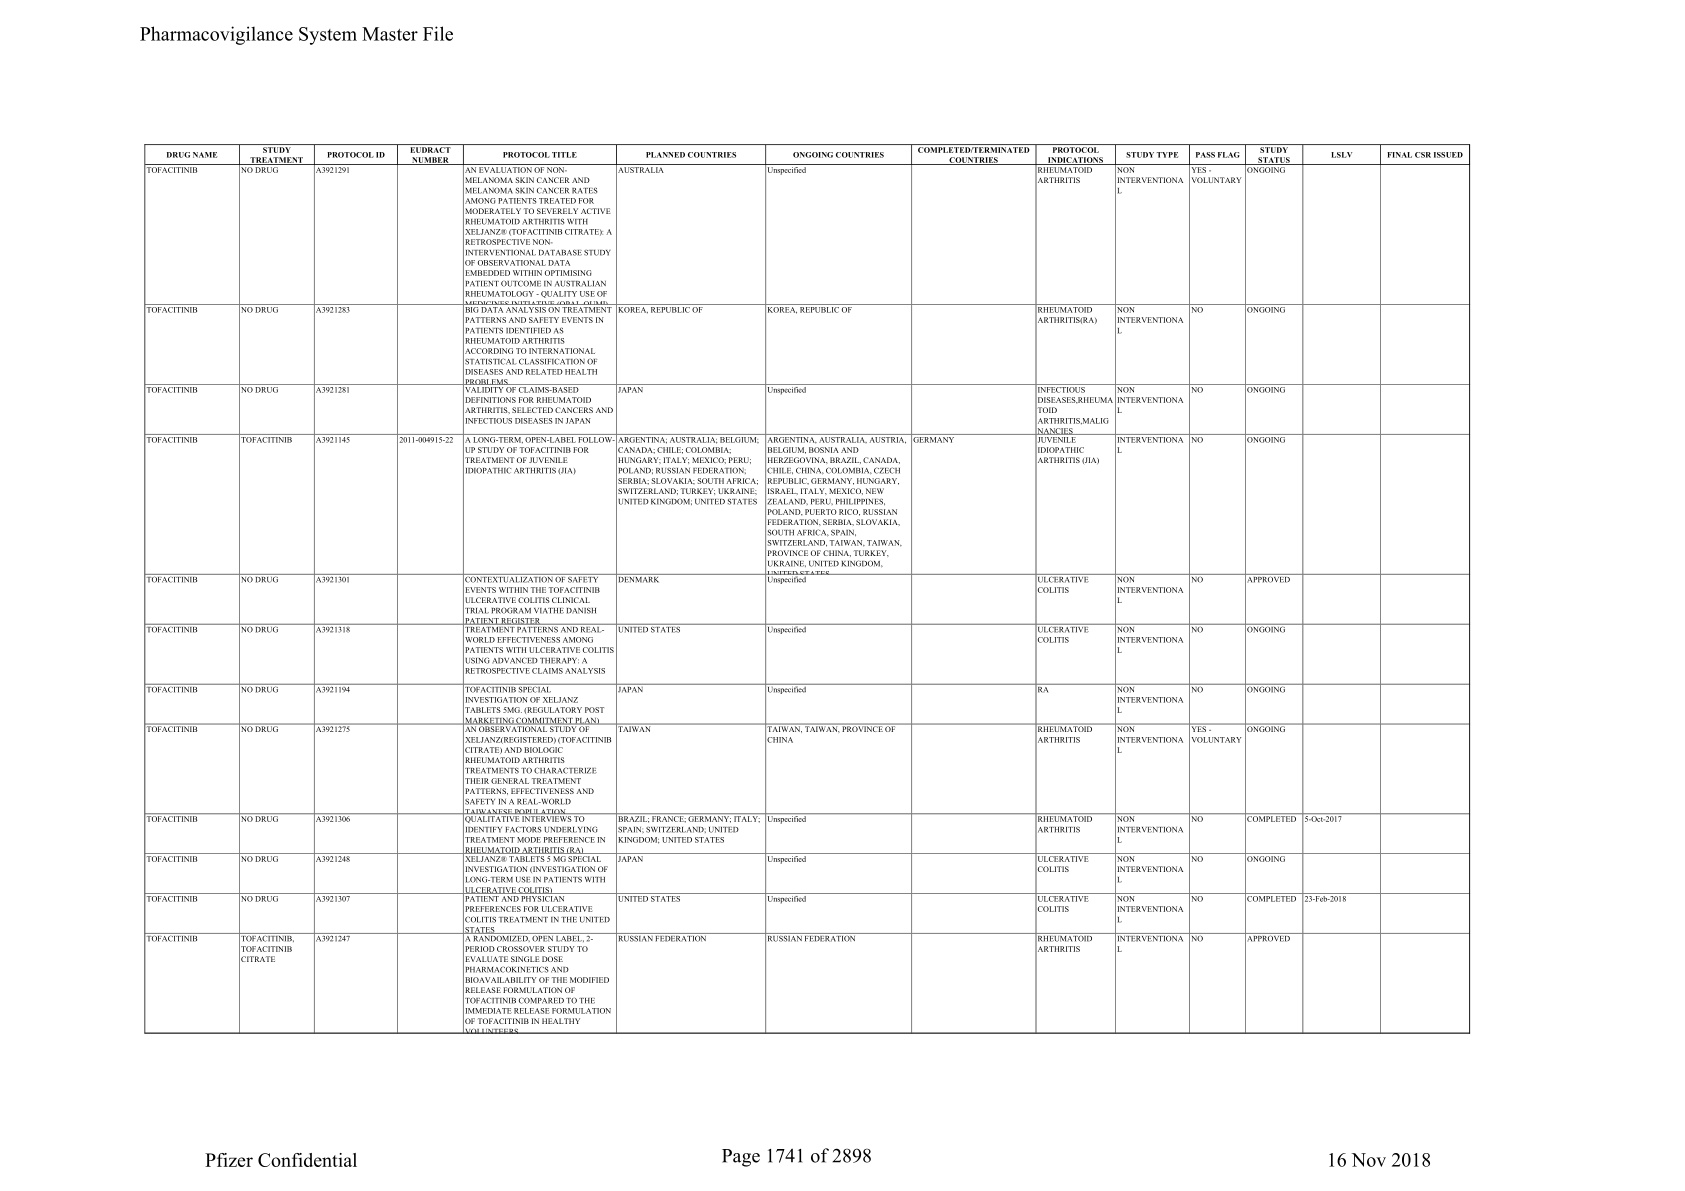full_lined: (143, 144, 1471, 1035)
